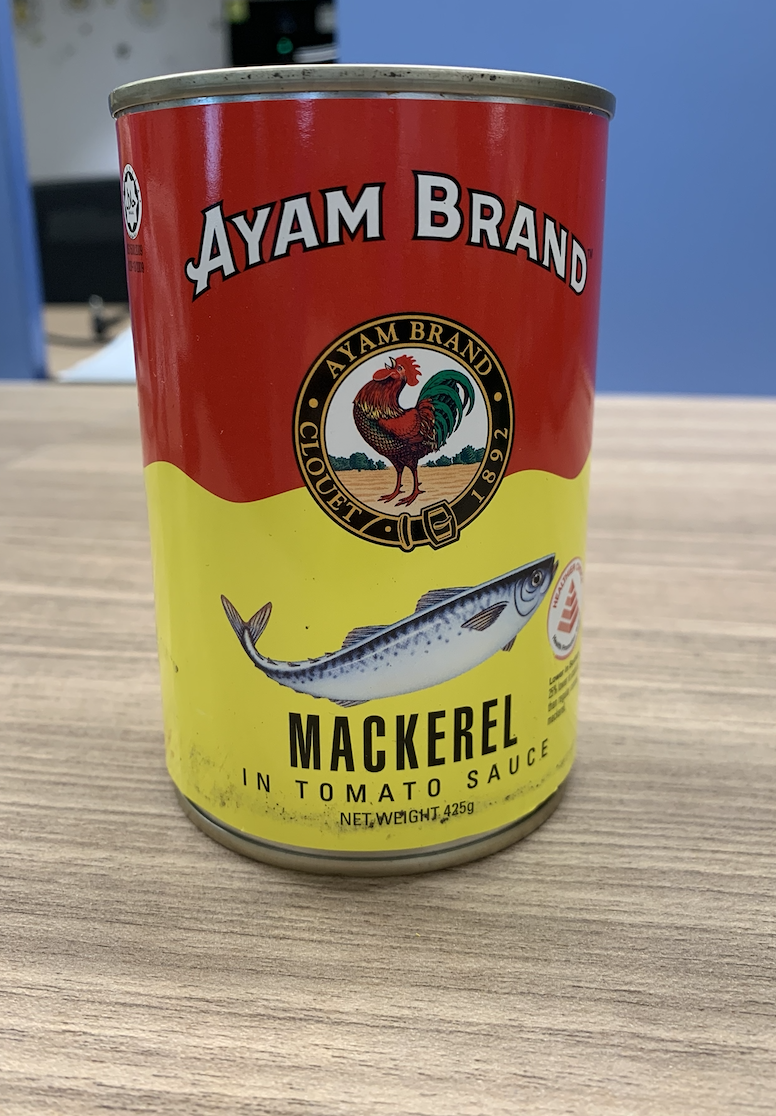sardines_450g: (172, 119, 585, 833)
